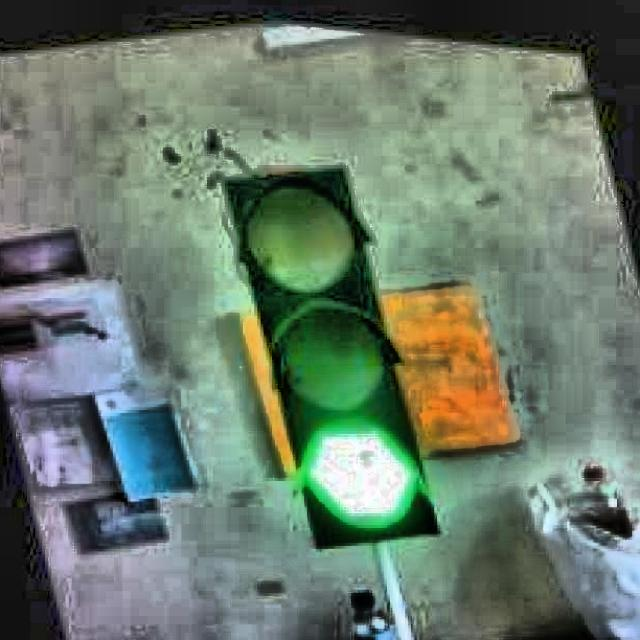green: (221, 166, 446, 540)
